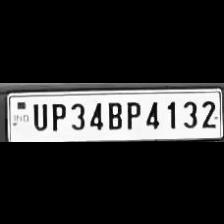1: (162, 97, 178, 129)
2: (198, 96, 216, 128)
3: (68, 97, 86, 130), (179, 97, 197, 129)
4: (86, 98, 104, 130), (142, 97, 160, 129)
B: (104, 98, 122, 130)
P: (122, 96, 142, 130), (47, 99, 66, 131)
U: (28, 99, 48, 131)
